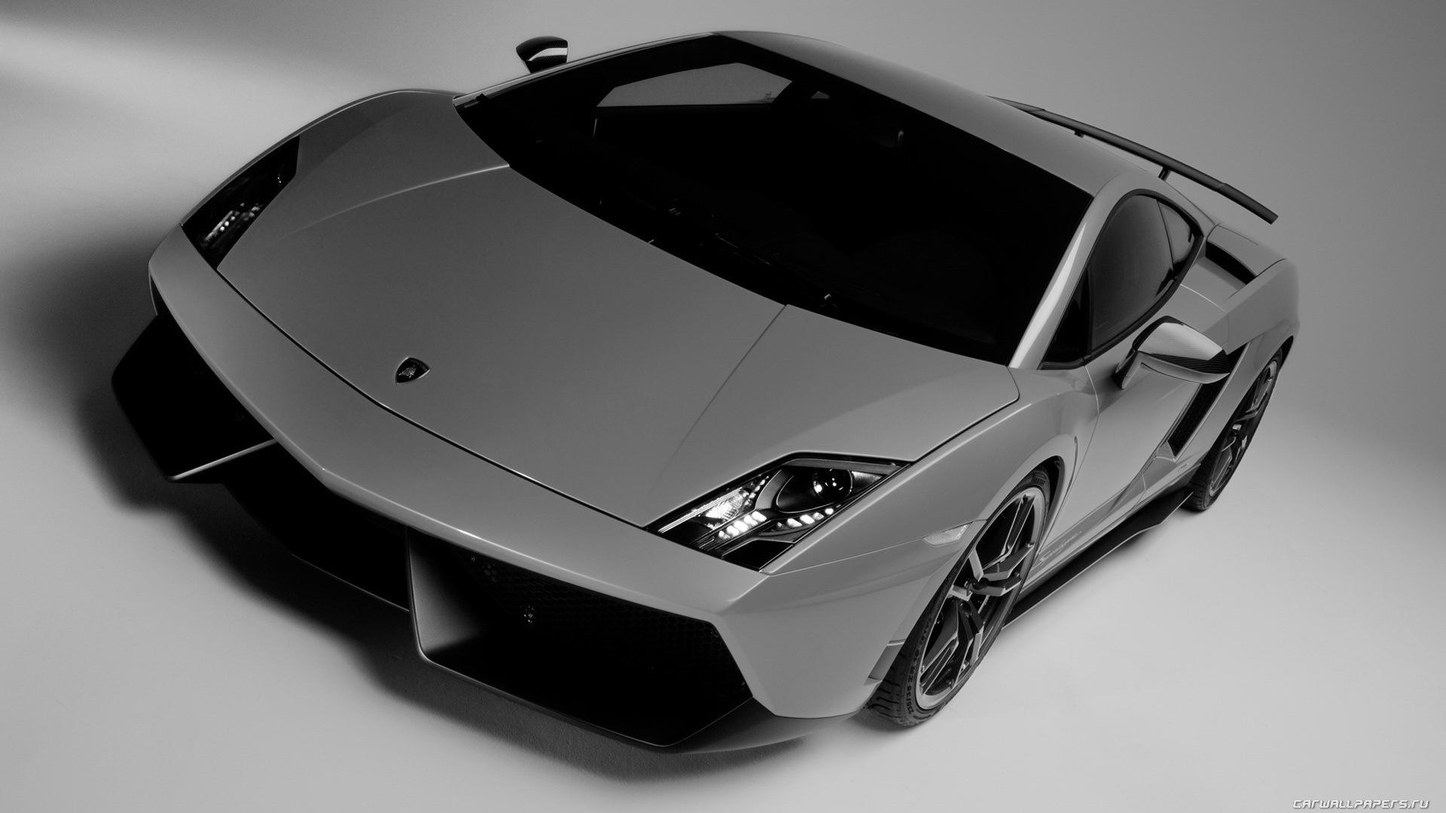car: (113, 25, 1302, 759)
